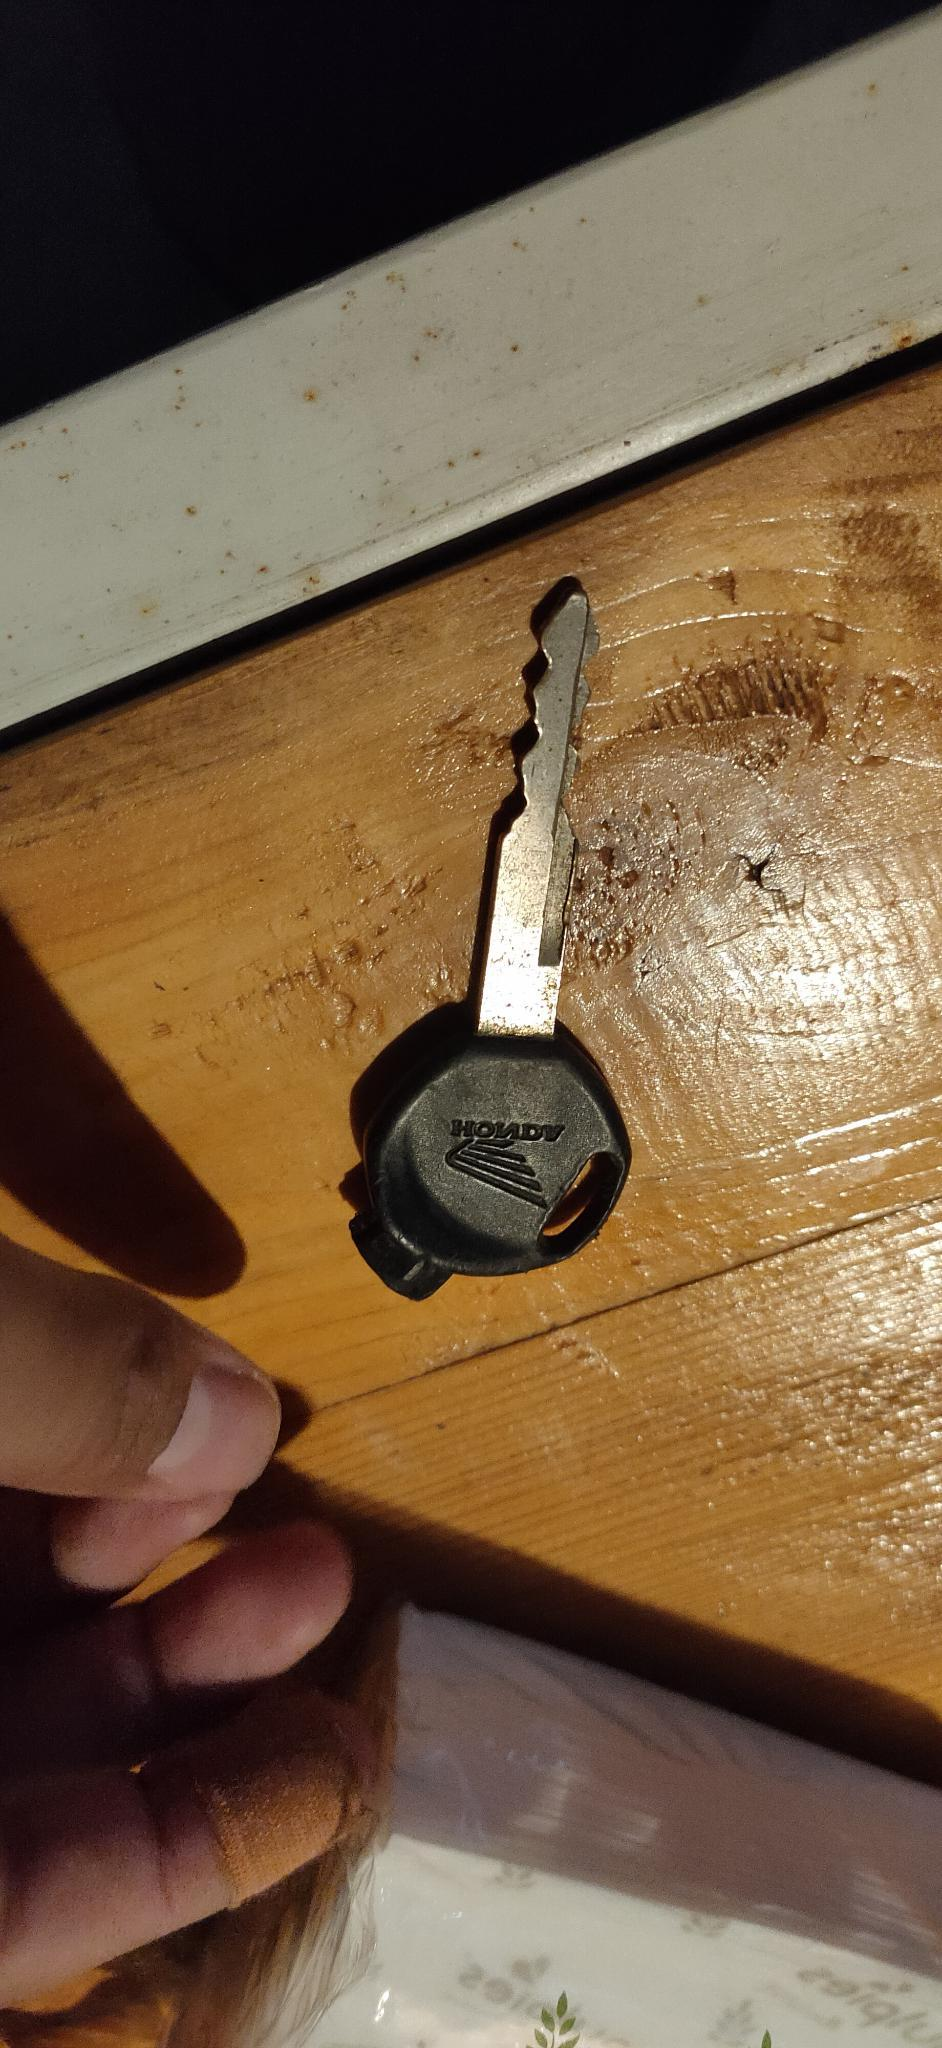keys: (338, 569, 645, 1320)
